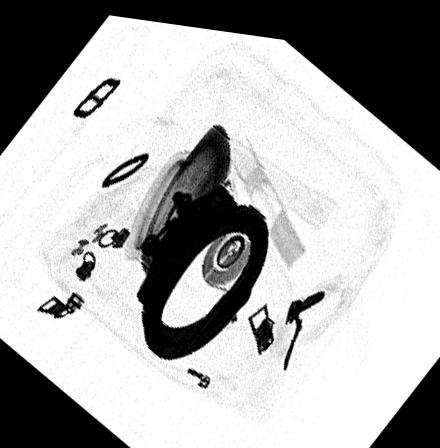HandCuffs: (133, 172, 271, 356)
